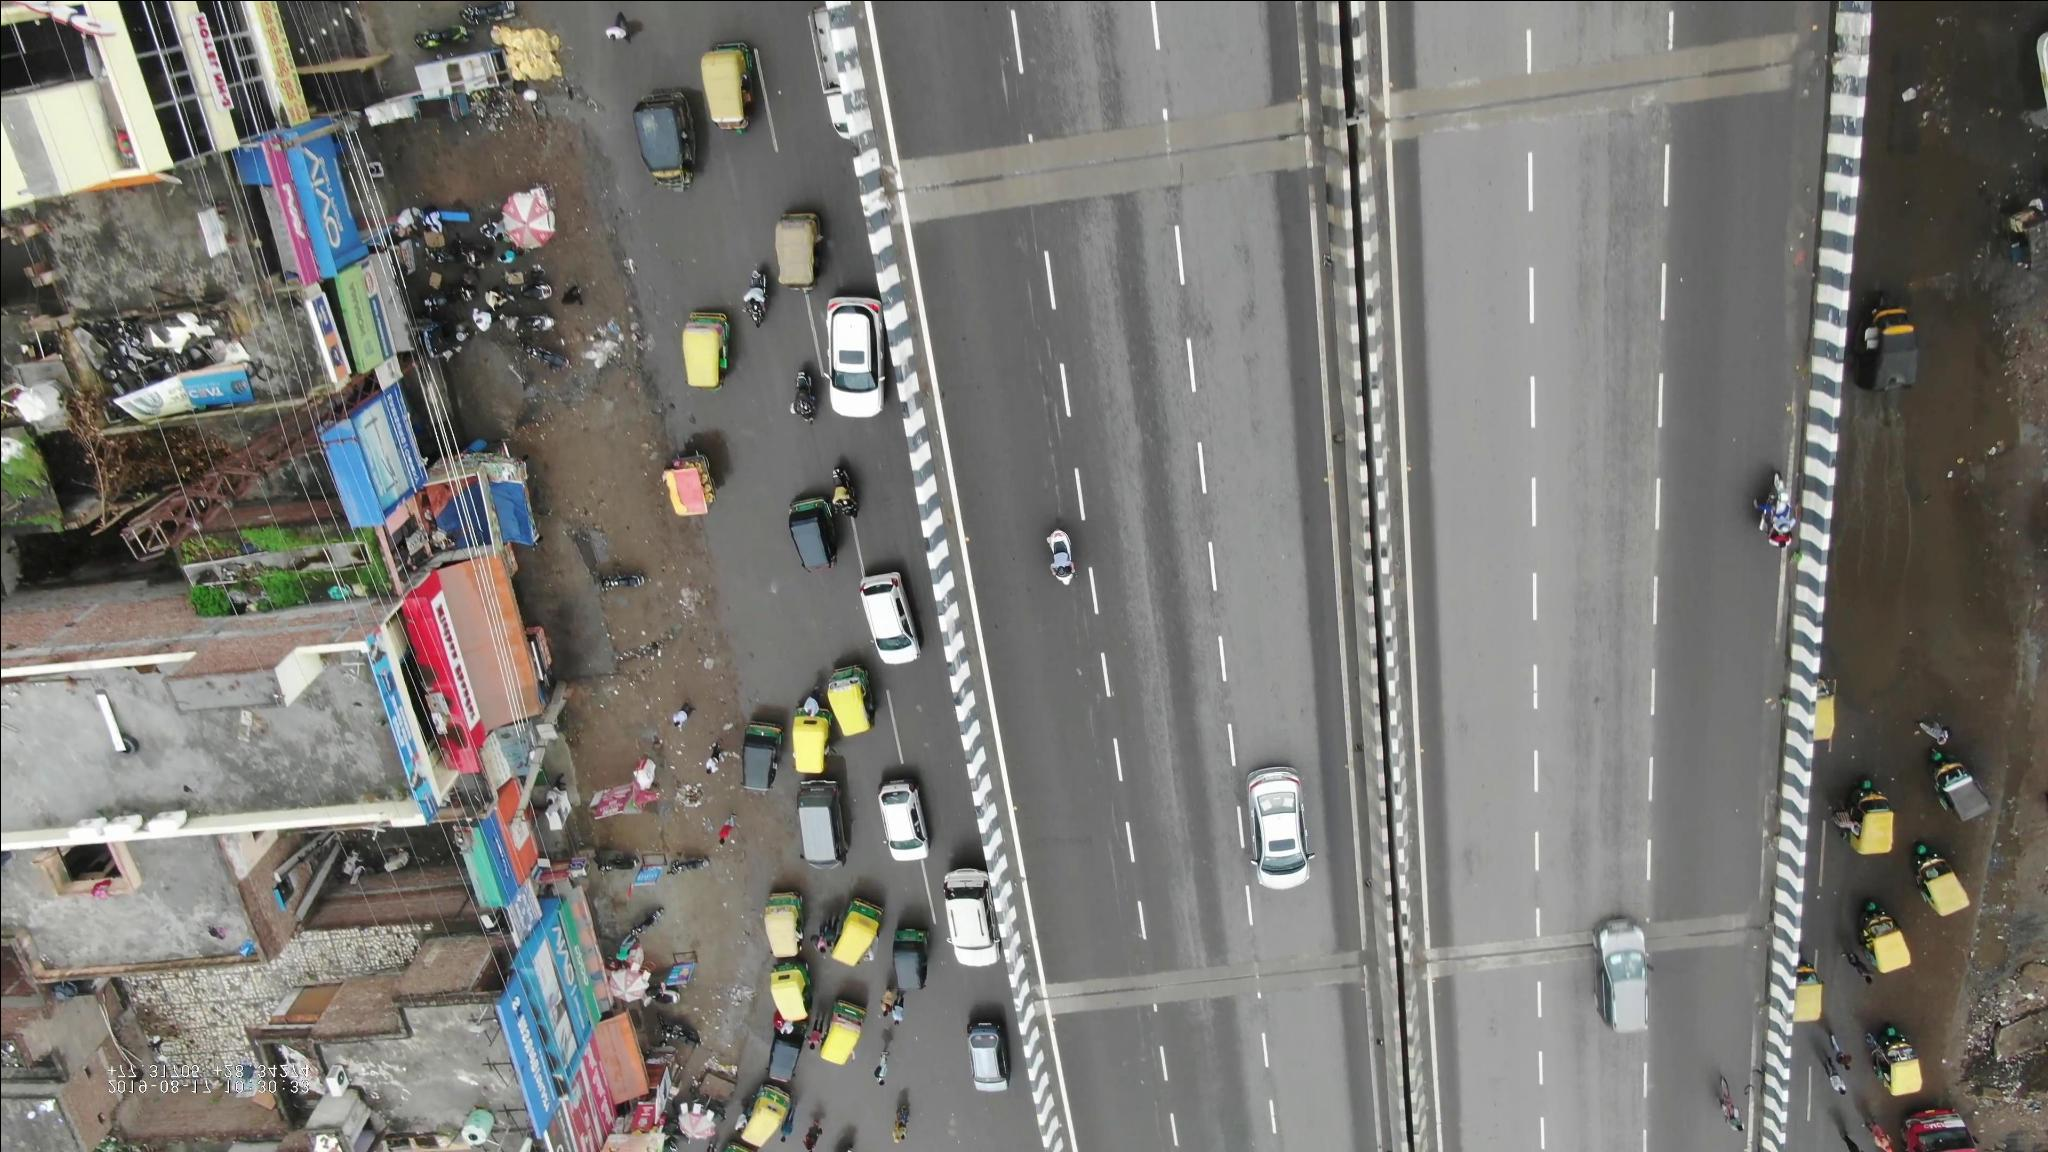Waterlogging: (1850, 433, 2004, 698)
